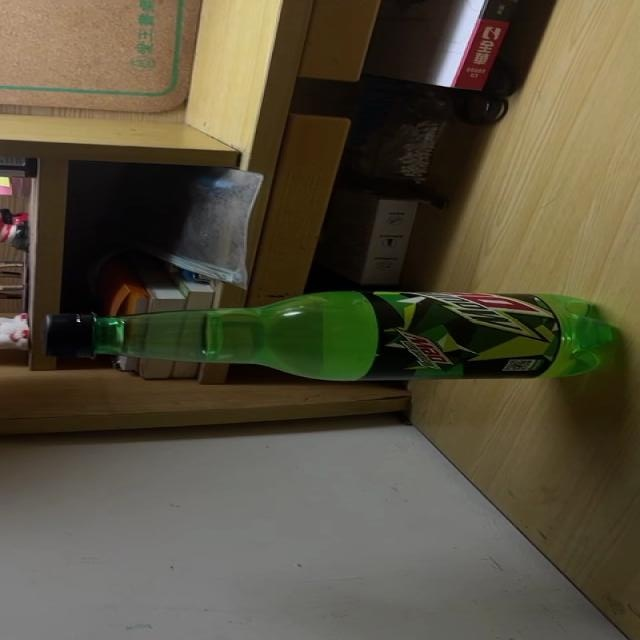Mountain-Dew: (43, 292, 616, 382)
